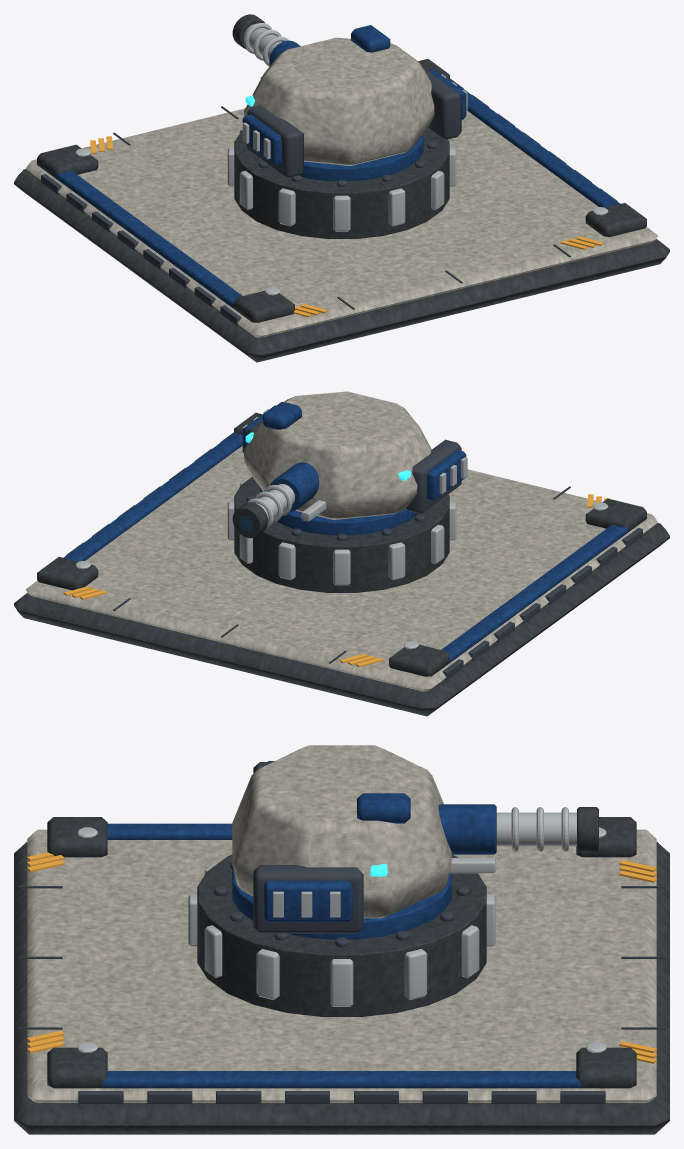
The model's file is solis_tourelle_de_garde.gltf.
3 renders of one model, top to bottom at view 1: azimuth 30°, elevation 25°; view 2: azimuth 150°, elevation 25°; view 3: azimuth 270°, elevation 25°, orthographic. The views are drawn at different scales.
Parts seen in each view (by area): view 1: Building.005_Geometry, TurretYaw_Geometry, GunRecoil_Geometry; view 2: Building.005_Geometry, TurretYaw_Geometry, GunRecoil_Geometry; view 3: Building.005_Geometry, TurretYaw_Geometry, GunRecoil_Geometry.
Part boxes in pixels (bbox=[...]): Building.005_Geometry: bbox=[14, 59, 669, 362]; TurretYaw_Geometry: bbox=[242, 25, 467, 178]; GunRecoil_Geometry: bbox=[232, 14, 300, 78]; Building.005_Geometry: bbox=[14, 412, 669, 716]; TurretYaw_Geometry: bbox=[242, 391, 467, 519]; GunRecoil_Geometry: bbox=[232, 462, 326, 538]; Building.005_Geometry: bbox=[14, 817, 669, 1134]; TurretYaw_Geometry: bbox=[232, 745, 451, 933]; GunRecoil_Geometry: bbox=[438, 804, 598, 873].
Size of the model in its own units: 3.92 by 1.54 by 3.92.
8 materials, 3 textured.
